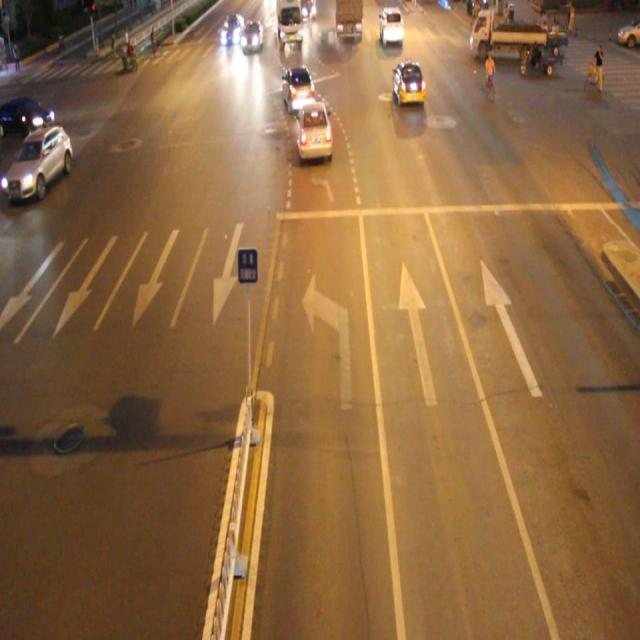car: (1, 127, 72, 201), (296, 100, 335, 163), (281, 63, 317, 116), (392, 59, 426, 103)
